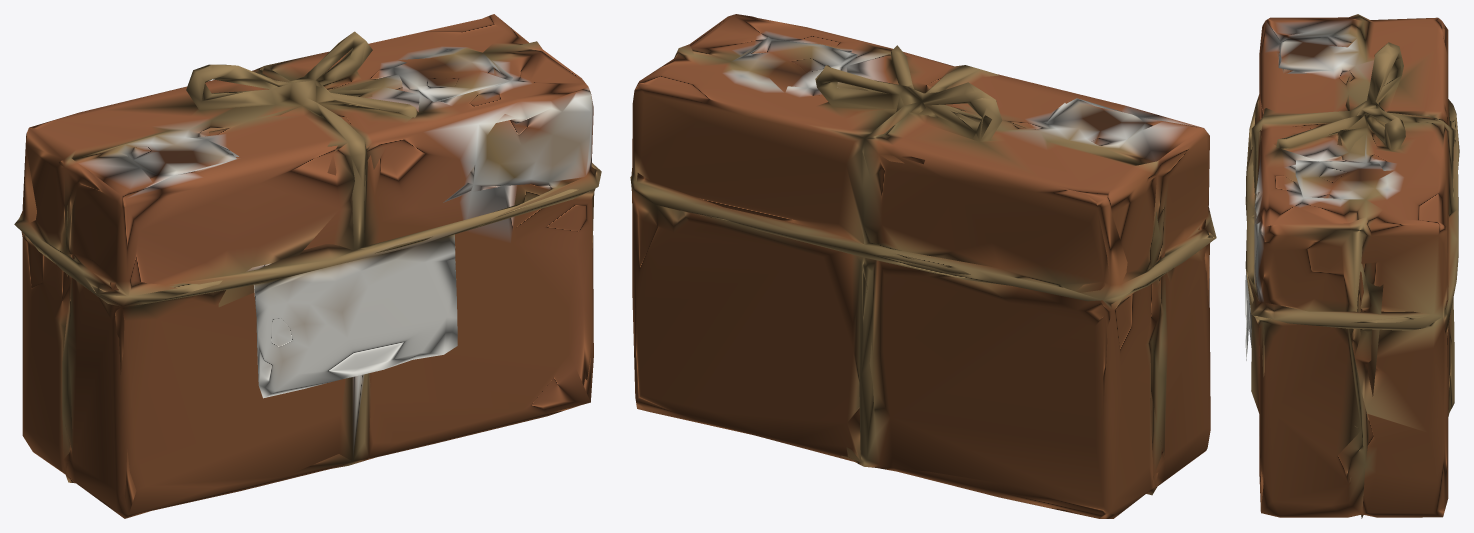
The model's file is gen3d-parcel-lod0.glb.
3 views of the same model, side by side, from view 1: azimuth 30°, elevation 25°; view 2: azimuth 150°, elevation 25°; view 3: azimuth 270°, elevation 25° (orthographic). The views are drawn at different scales.
Parts seen in each view (by area): view 1: part_0; view 2: part_0; view 3: part_0.
Part boxes in pixels (bbox=[...]): part_0: bbox=[14, 14, 601, 518]; part_0: bbox=[630, 14, 1216, 518]; part_0: bbox=[1245, 14, 1459, 518].
Size of the model in its own units: 1.42 by 0.9995 by 0.5727.
